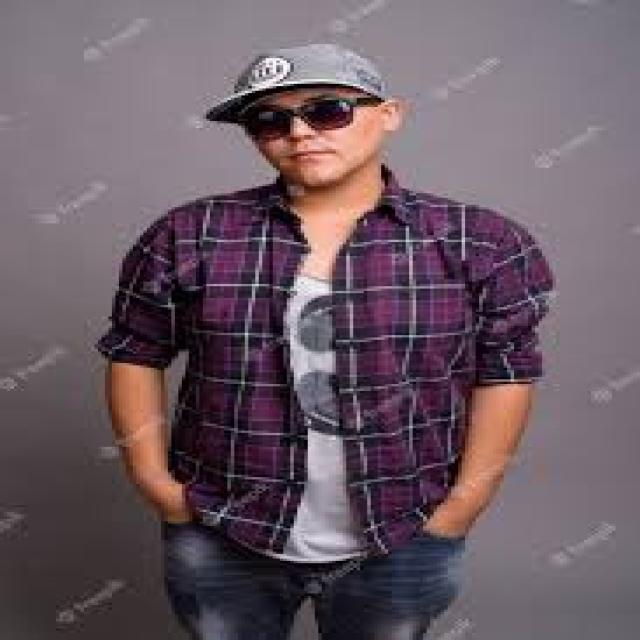cap: (206, 42, 410, 186)
